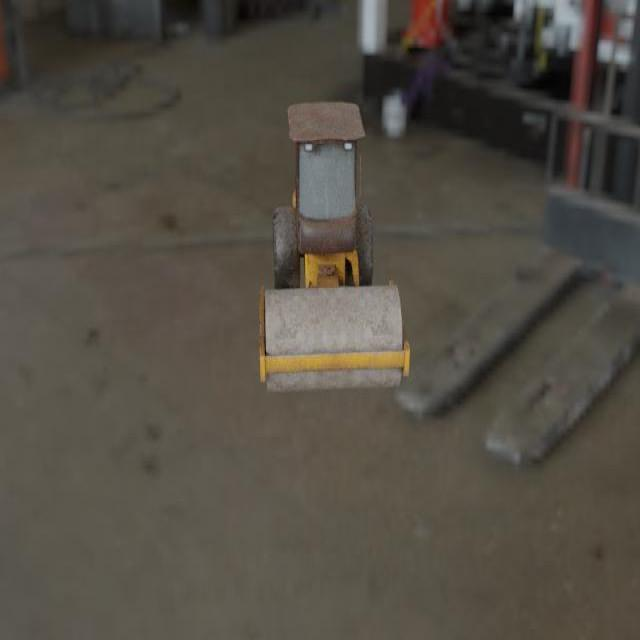Roller: (259, 100, 410, 392)
